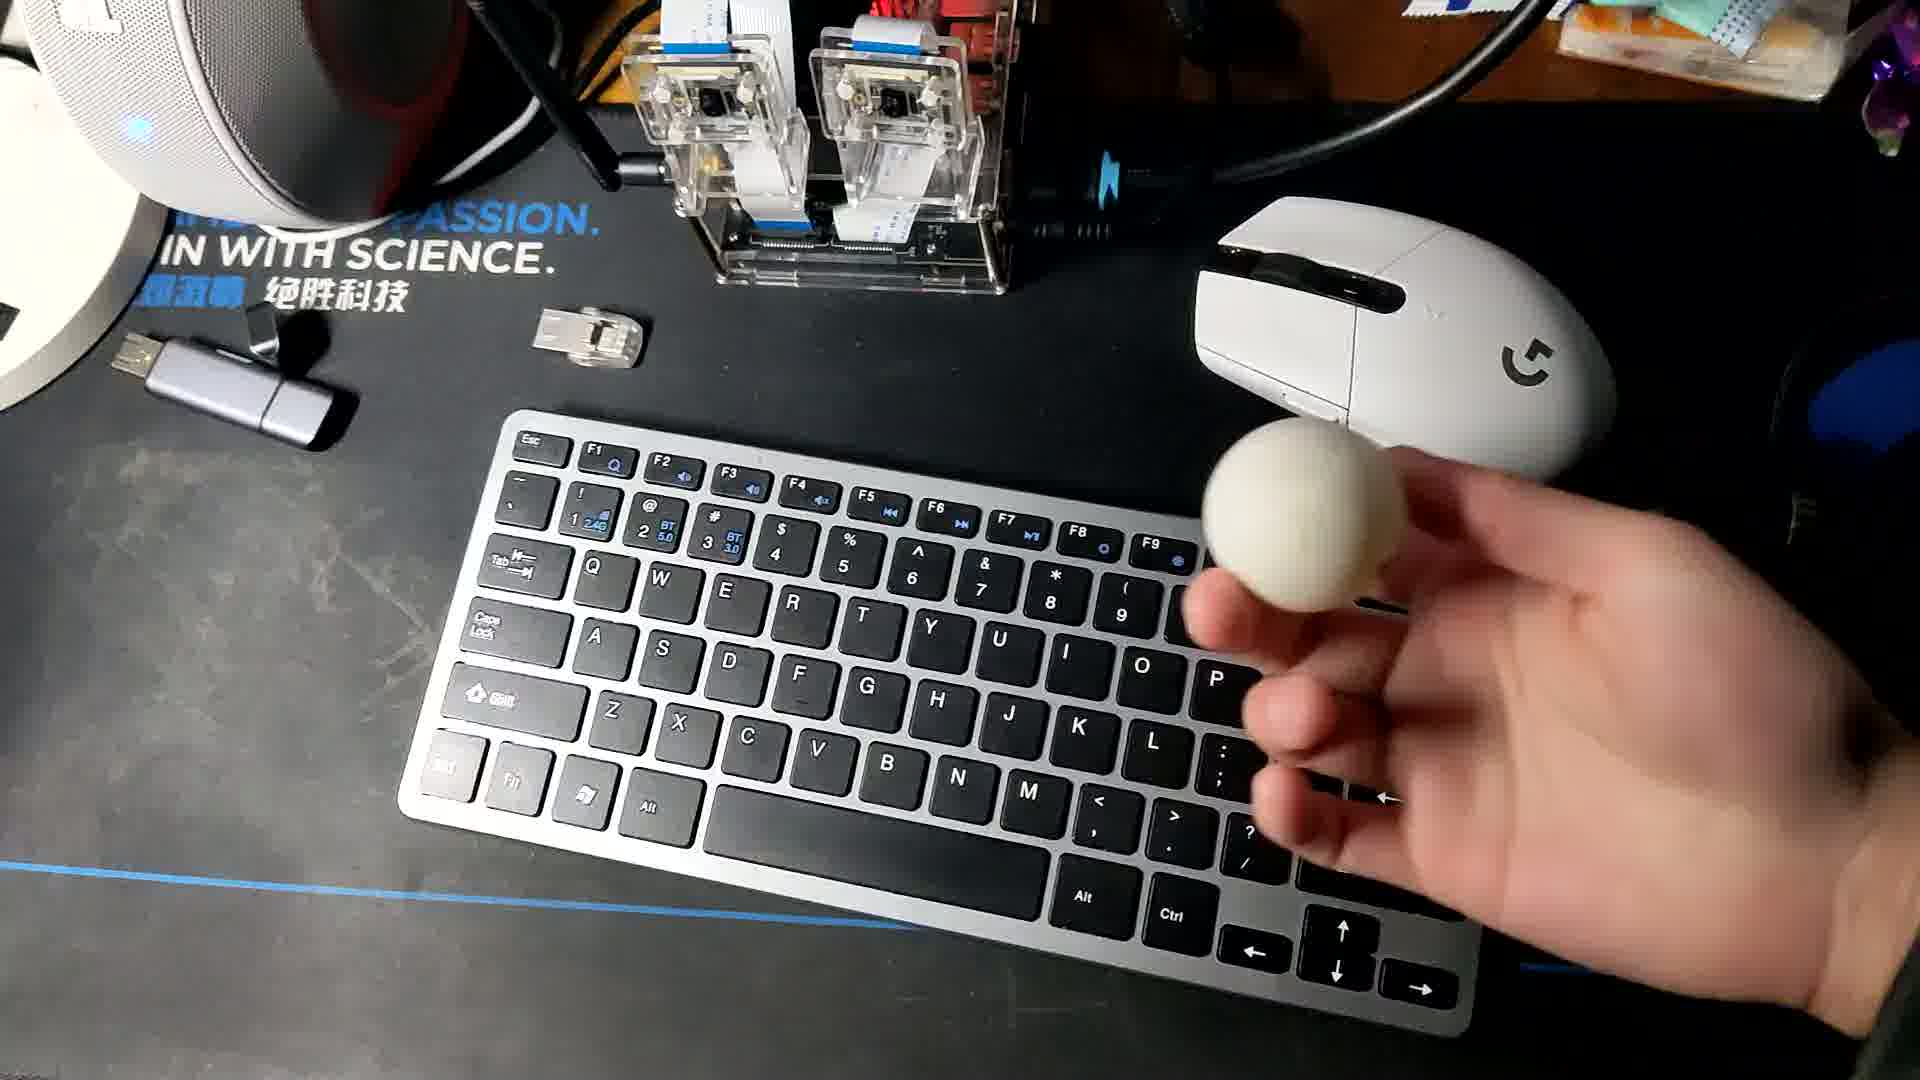Ball: (1207, 423, 1406, 620)
